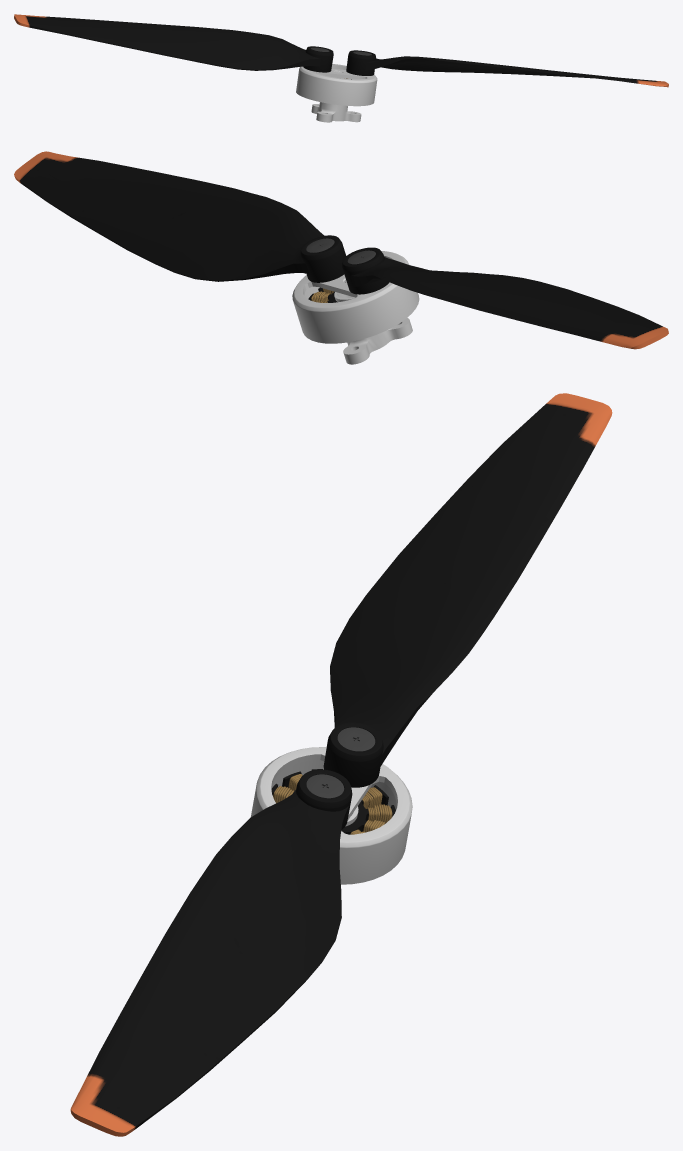
Rendered from motor_lf.dae.
3 renders of one model, top to bottom at view 1: azimuth 30°, elevation 25°; view 2: azimuth 150°, elevation 25°; view 3: azimuth 270°, elevation 25°, orthographic. The views are drawn at different scales.
Parts seen in each view (by area): view 1: pCylinder8_11, pCylinder8, pCylinder8_6, Retopo_WM162_15034CMOTORD_BASE_ZS_4_1_body1_1; view 2: pCylinder8, pCylinder8_11, pCylinder8_6, Retopo_WM162_15034CMOTORD_BASE_ZS_4_1_body1_1; view 3: pCylinder8, pCylinder8_11, pCylinder8_6.
Boxes of the visible parts, bbox=[...] form: pCylinder8_11: bbox=[14, 14, 333, 72]; pCylinder8: bbox=[346, 50, 668, 87]; pCylinder8_6: bbox=[296, 64, 377, 106]; Retopo_WM162_15034CMOTORD_BASE_ZS_4_1_body1_1: bbox=[311, 77, 361, 122]; pCylinder8: bbox=[14, 151, 345, 282]; pCylinder8_11: bbox=[342, 247, 668, 349]; pCylinder8_6: bbox=[292, 251, 419, 343]; Retopo_WM162_15034CMOTORD_BASE_ZS_4_1_body1_1: bbox=[334, 292, 412, 364]; pCylinder8: bbox=[70, 769, 352, 1136]; pCylinder8_11: bbox=[323, 393, 612, 787]; pCylinder8_6: bbox=[251, 747, 412, 884].
Size of the model in its own units: 0.1409 by 0.0618 by 0.0299.
Materials: 4 (1 with a texture image).
